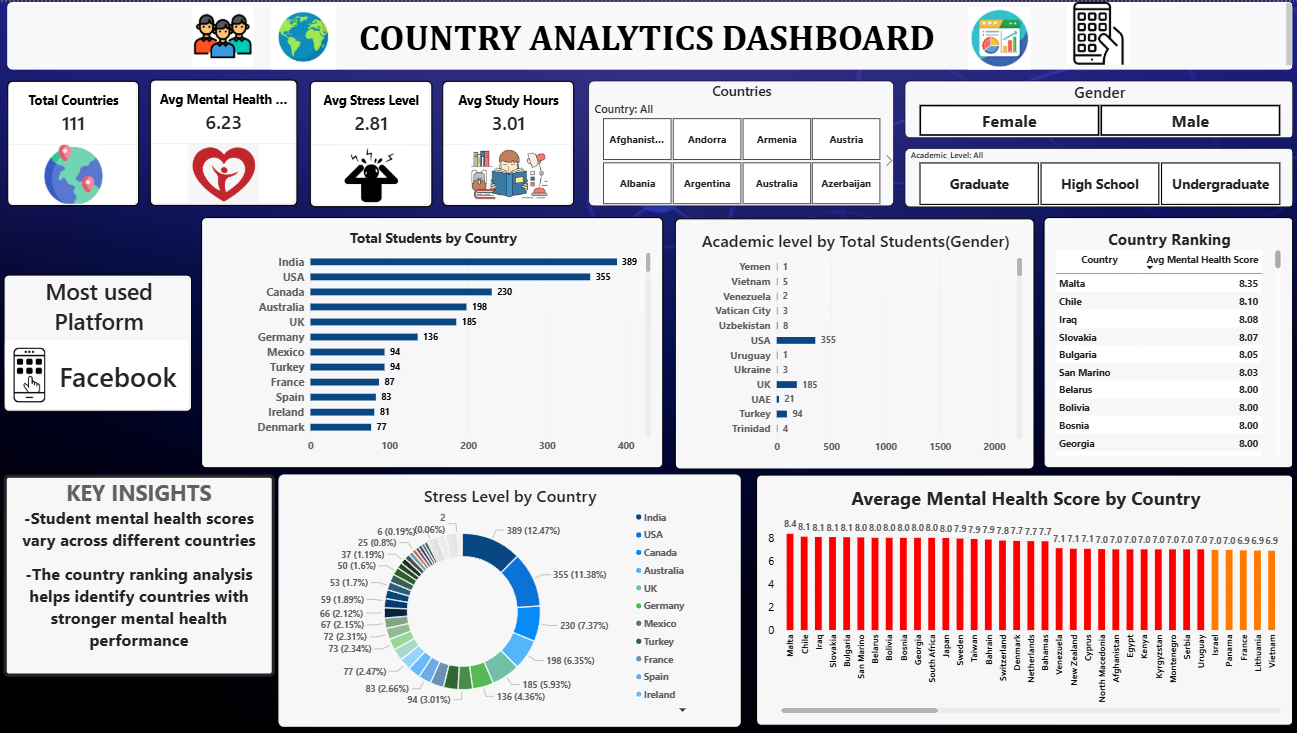

What the dashboard file says about the page in this screenshot:
{"tool":"powerbi","page":{"name":"Country Analysis","canvas":[1920,1080],"ordinal":4},"visuals":[{"type":"textbox","box":[16.5,0,1887.4,99],"z":0},{"type":"cardVisual","fields":{"Data":["Student Social Media And Mental Health Impact.Total Countries"]},"box":[15.9,116,193.3,184.2],"z":1000},{"type":"cardVisual","fields":{"Data":["Student Social Media And Mental Health Impact.Avg Mental Health Score"]},"box":[225.6,113.7,216.4,185.3],"z":2000},{"type":"cardVisual","fields":{"Data":["Student Social Media And Mental Health Impact.Avg Stress Level"]},"box":[460.4,115.6,179.8,185.3],"z":3000},{"type":"cardVisual","fields":{"Data":["Student Social Media And Mental Health Impact.Avg Study Hours"]},"box":[655,116,193.3,184.2],"z":4000},{"type":"slicer","title":"Countries","fields":{"Values":["Student Social Media And Mental Health Impact.Country"]},"box":[868.8,116,448.1,184.2],"z":5000},{"type":"slicer","title":"Gender","fields":{"Values":["Student Social Media And Mental Health Impact.Gender"]},"box":[1332.8,116,570.9,84.2],"z":6000},{"type":"slicer","fields":{"Values":["Student Social Media And Mental Health Impact.Academic_Level"]},"box":[1332.8,213.8,570.9,86.4],"z":7000},{"type":"clusteredBarChart","title":"Total Students by Country","fields":{"Category":["Student Social Media And Mental Health Impact.Country"],"Y":["Student Social Media And Mental Health Impact.Total Students"]},"box":[300.8,315.5,678.7,368.7],"z":8000},{"type":"columnChart","title":"Average Mental Health Score by Country","fields":{"Category":["Student Social Media And Mental Health Impact.Country"],"Y":["Student Social Media And Mental Health Impact.Avg Mental Health Score"]},"box":[1115.2,693.3,788.7,368.7],"z":9000},{"type":"cardVisual","title":"Most used Platform","fields":{"Data":["Min(Student Social Media And Mental Health Impact.Most_Used_Platform)"]},"box":[11,399.9,277,201.8],"z":10000},{"type":"donutChart","title":"Stress Level by Country","fields":{"Category":["Student Social Media And Mental Health Impact.Country"],"Y":["CountNonNull(Student Social Media And Mental Health Impact.Stress_Level)"]},"box":[414.5,693.3,678.7,370.5],"z":11000},{"type":"barChart","title":"Academic level by Total Students(Gender)","fields":{"Category":["Student Social Media And Mental Health Impact.Country","Student Social Media And Mental Health Impact.Academic_Level","Student Social Media And Mental Health Impact.Gender"],"Y":["Student Social Media And Mental Health Impact.Total Students"]},"box":[996,317.3,528.3,368.7],"z":12000},{"type":"tableEx","title":"Country Ranking","fields":{"Values":["Student Social Media And Mental Health Impact.Country","Student Social Media And Mental Health Impact.Avg Mental Health Score"]},"box":[1537.1,315.5,366.8,368.7],"z":13000},{"type":"image","box":[352.2,3.7,198.1,95.4],"z":14000},{"type":"image","box":[1394,7.3,157.7,91.7],"z":15000},{"type":"image","box":[1551.8,0,132.1,91.7],"z":16000},{"type":"image","box":[256.8,5.5,152.2,89.9],"z":17000},{"type":"textbox","box":[11,693.3,398,297.1],"z":17001}]}

Visuals, with their boxes in screenshot pixels (x1, y1, x2, y2), scaled from the page's 1920x1080 canvas onto the 1297x733 screenshot:
textbox: rect(11, 0, 1286, 67)
cardVisual - Student Social Media And Mental Health Impact.Total Countries: rect(11, 79, 141, 204)
cardVisual - Student Social Media And Mental Health Impact.Avg Mental Health Score: rect(152, 77, 299, 203)
cardVisual - Student Social Media And Mental Health Impact.Avg Stress Level: rect(311, 78, 432, 204)
cardVisual - Student Social Media And Mental Health Impact.Avg Study Hours: rect(442, 79, 573, 204)
"Countries" slicer: rect(587, 79, 890, 204)
"Gender" slicer: rect(900, 79, 1286, 136)
slicer - Student Social Media And Mental Health Impact.Academic_Level: rect(900, 145, 1286, 204)
"Total Students by Country" clusteredBarChart: rect(203, 214, 662, 464)
"Average Mental Health Score by Country" columnChart: rect(753, 471, 1286, 721)
"Most used Platform" cardVisual: rect(7, 271, 195, 408)
"Stress Level by Country" donutChart: rect(280, 471, 738, 722)
"Academic level by Total Students(Gender)" barChart: rect(673, 215, 1030, 466)
"Country Ranking" tableEx: rect(1038, 214, 1286, 464)
image: rect(238, 3, 372, 67)
image: rect(942, 5, 1048, 67)
image: rect(1048, 0, 1138, 62)
image: rect(173, 4, 276, 65)
textbox: rect(7, 471, 276, 672)
